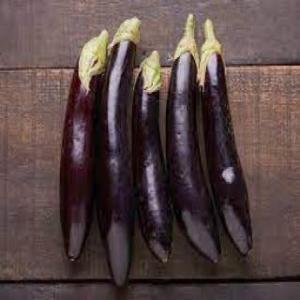eggplant: (198, 19, 254, 253), (168, 16, 220, 262), (60, 31, 109, 260), (134, 50, 170, 260), (109, 13, 132, 286)
